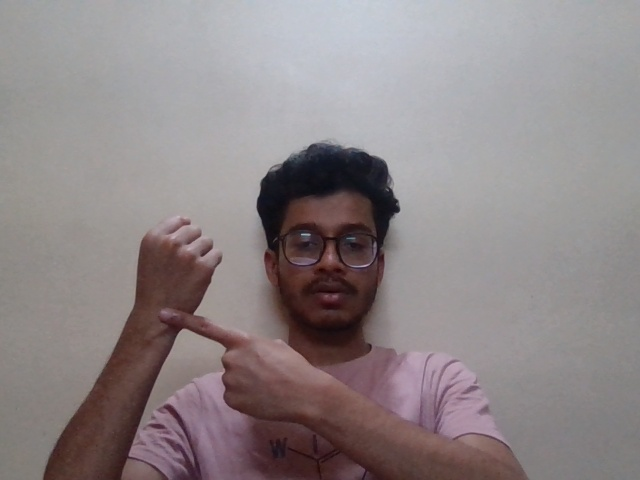time: (127, 208, 297, 430)
